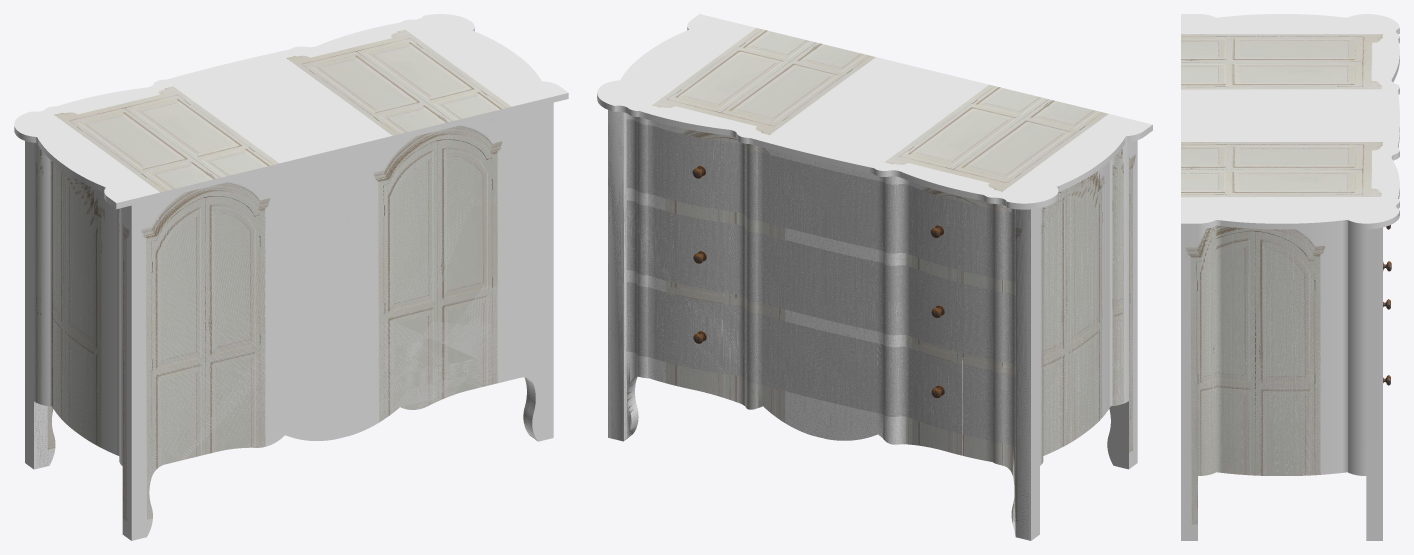
3 views of the same model, side by side, from view 1: azimuth 30°, elevation 25°; view 2: azimuth 150°, elevation 25°; view 3: azimuth 270°, elevation 25° (orthographic). The views are drawn at different scales.
Visible parts, largest first — view 1: mesh3_mesh3-geometry, mesh1_mesh1-geometry; view 2: mesh3_mesh3-geometry, mesh1_mesh1-geometry, mesh2_mesh2-geometry; view 3: mesh3_mesh3-geometry, mesh1_mesh1-geometry.
Part boxes in pixels (x1,y1,x2,y2): mesh3_mesh3-geometry: (25, 102, 553, 540); mesh1_mesh1-geometry: (14, 14, 568, 209); mesh3_mesh3-geometry: (608, 110, 1137, 540); mesh1_mesh1-geometry: (597, 14, 1152, 209); mesh2_mesh2-geometry: (692, 166, 944, 398); mesh3_mesh3-geometry: (1181, 225, 1382, 540); mesh1_mesh1-geometry: (1181, 14, 1399, 229).
Bounding box in the file's own units: 0.7636 × 0.5508 × 0.3369.
